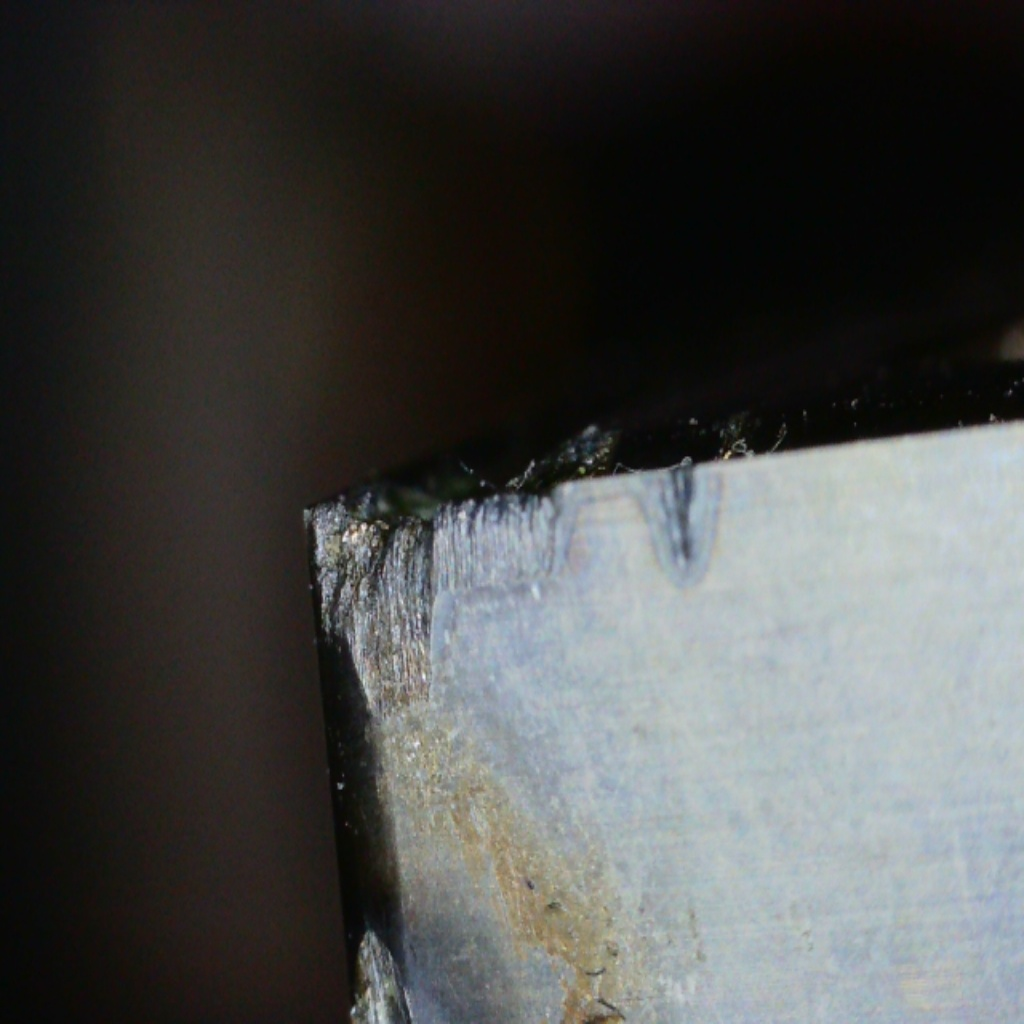flank_wear: (317, 489, 550, 724), (642, 467, 725, 591)
